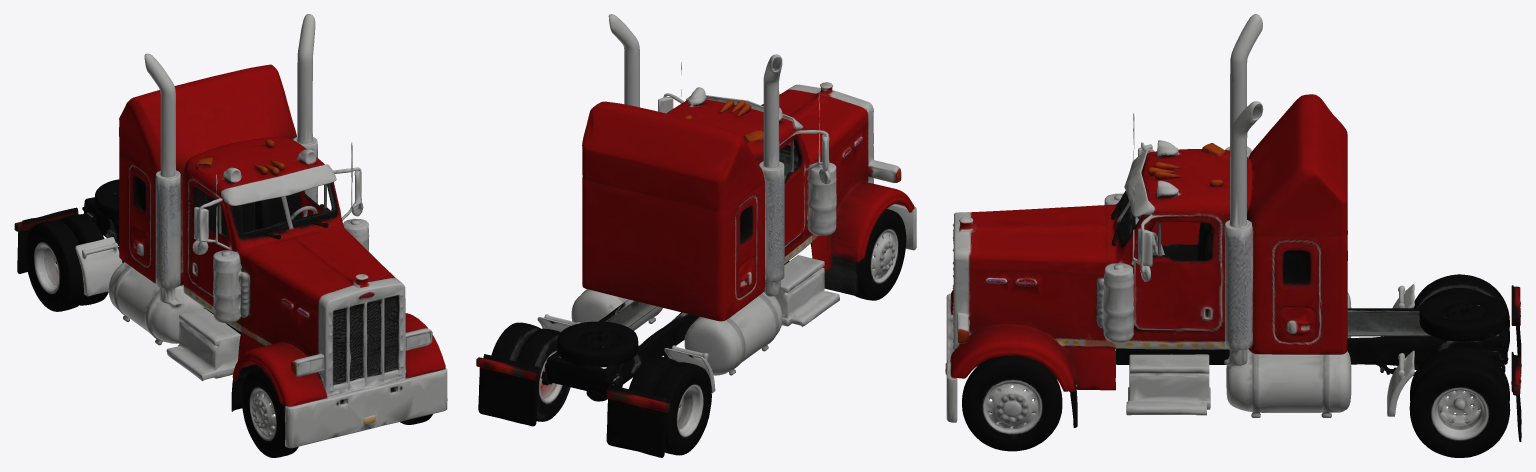
Rendered from 061_semi_cab_red.glb.
3 renders of one model, left to right at view 1: azimuth 30°, elevation 25°; view 2: azimuth 150°, elevation 25°; view 3: azimuth 270°, elevation 25°, orthographic. The views are drawn at different scales.
Parts seen in each view (by area): view 1: geometry_0; view 2: geometry_0; view 3: geometry_0.
Boxes of the visible parts, left/top/right/bottom form: geometry_0: left=14, top=14, right=447, bottom=457; geometry_0: left=476, top=14, right=916, bottom=457; geometry_0: left=945, top=14, right=1521, bottom=457.
Size of the model in its own units: 2.91 by 4.74 by 7.
Materials: 1 (1 with a texture image).
